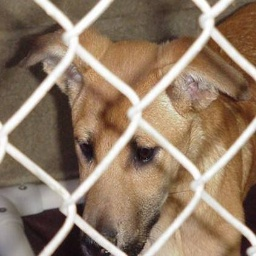dog: (20, 21, 256, 256)
